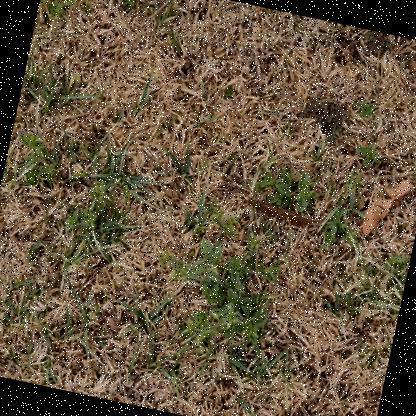Weeds: (142, 199, 291, 355), (0, 129, 126, 246), (246, 161, 369, 255), (93, 0, 161, 18)
